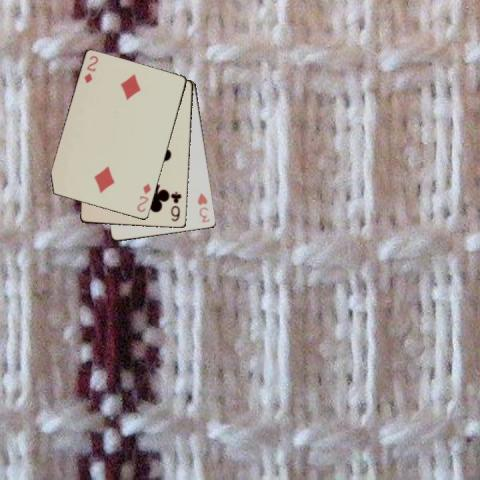2d: (134, 181, 153, 214), (81, 53, 100, 85)
3h: (195, 191, 211, 224)
6c: (168, 188, 183, 222)
